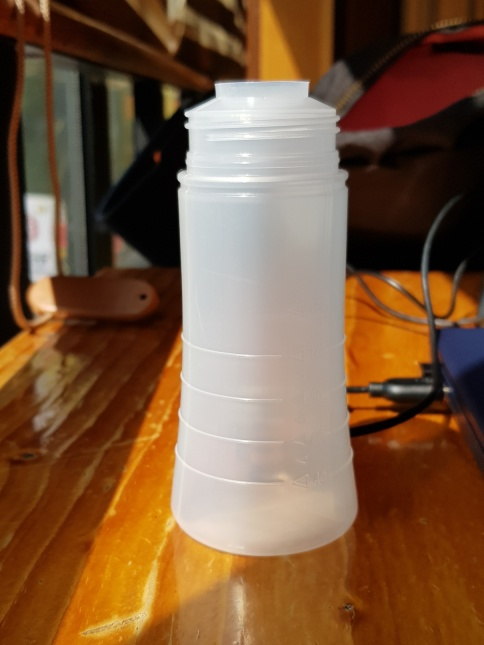Plastic: (167, 74, 364, 562)
